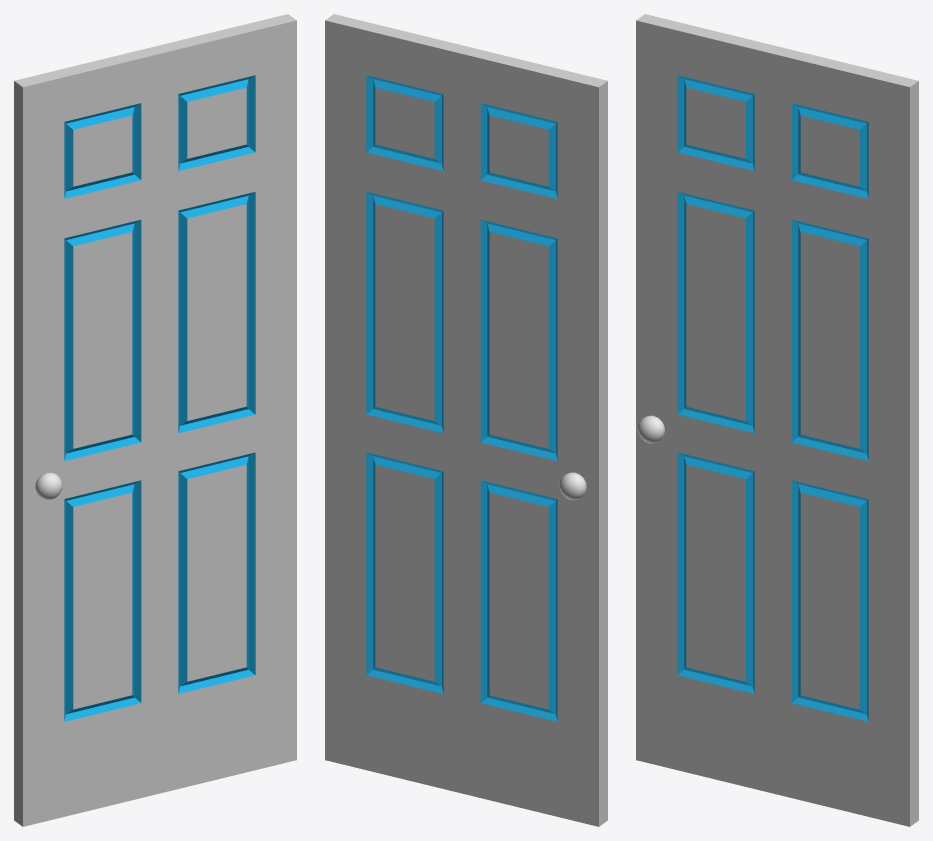
File: door.fbx
The picture shows the model from 3 angles, left to right: view 1: azimuth 30°, elevation 25°; view 2: azimuth 150°, elevation 25°; view 3: azimuth 330°, elevation 25°; orthographic projection.
Visible parts, largest first — view 1: Cube.006, Sphere; view 2: Cube.006, Sphere; view 3: Cube.006, Sphere.
Part boxes in pixels (x1=…): Cube.006: x1=14, y1=14, x2=296, y2=826; Sphere: x1=35, y1=472, x2=62, y2=500; Cube.006: x1=325, y1=14, x2=607, y2=826; Sphere: x1=559, y1=472, x2=586, y2=500; Cube.006: x1=636, y1=14, x2=918, y2=826; Sphere: x1=637, y1=415, x2=665, y2=443.
Bounding box in the file's own units: 2.83 × 7.3 × 0.5707.
